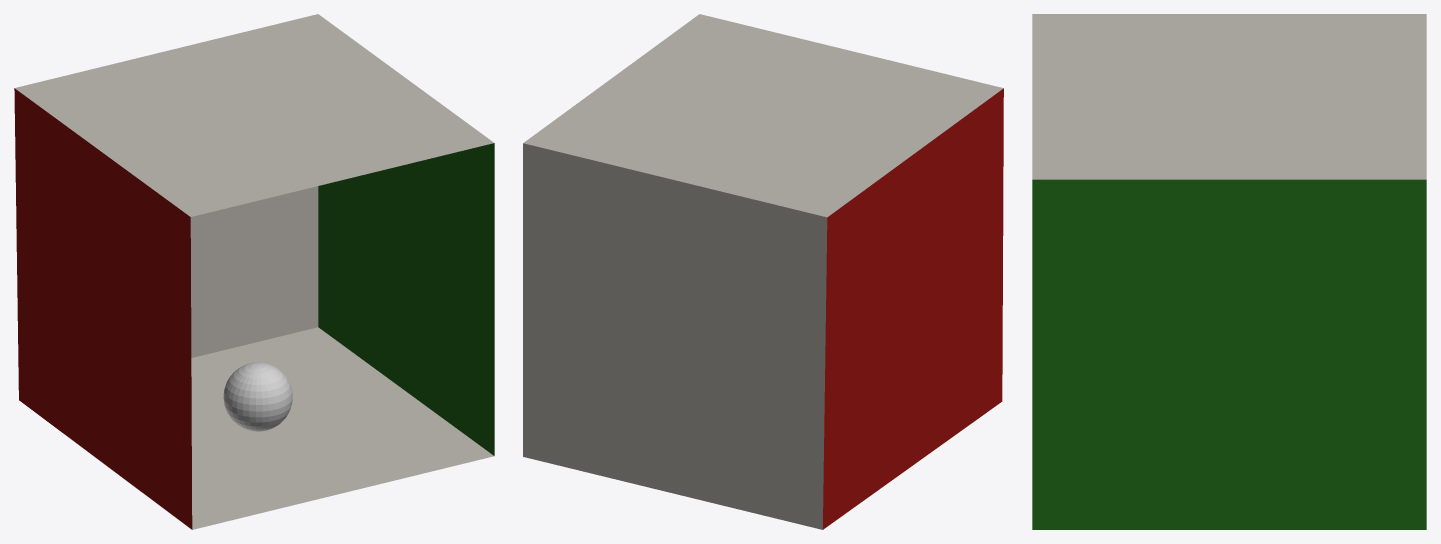
Rendered from ball-cornellbox-2.obj.
3 views of the same model, side by side, from view 1: azimuth 30°, elevation 25°; view 2: azimuth 150°, elevation 25°; view 3: azimuth 270°, elevation 25° (orthographic). The views are drawn at different scales.
Visible parts, largest first — view 1: left_wall, ceiling, right_wall, ground, back_wall, Sphere; view 2: back_wall, left_wall, ceiling; view 3: right_wall, ceiling.
Boxes of the visible parts, box(x1,y1,x2,y2) form: left_wall: box(14, 88, 192, 529); ceiling: box(15, 14, 493, 216); right_wall: box(318, 143, 494, 455); ground: box(191, 327, 493, 529); back_wall: box(190, 186, 318, 357); Sphere: box(223, 362, 292, 431); back_wall: box(523, 143, 827, 529); left_wall: box(823, 88, 1003, 529); ceiling: box(523, 14, 1003, 217); right_wall: box(1032, 179, 1426, 529); ceiling: box(1032, 14, 1426, 179).
Size of the model in its own units: 2.02 by 1.99 by 2.03.
